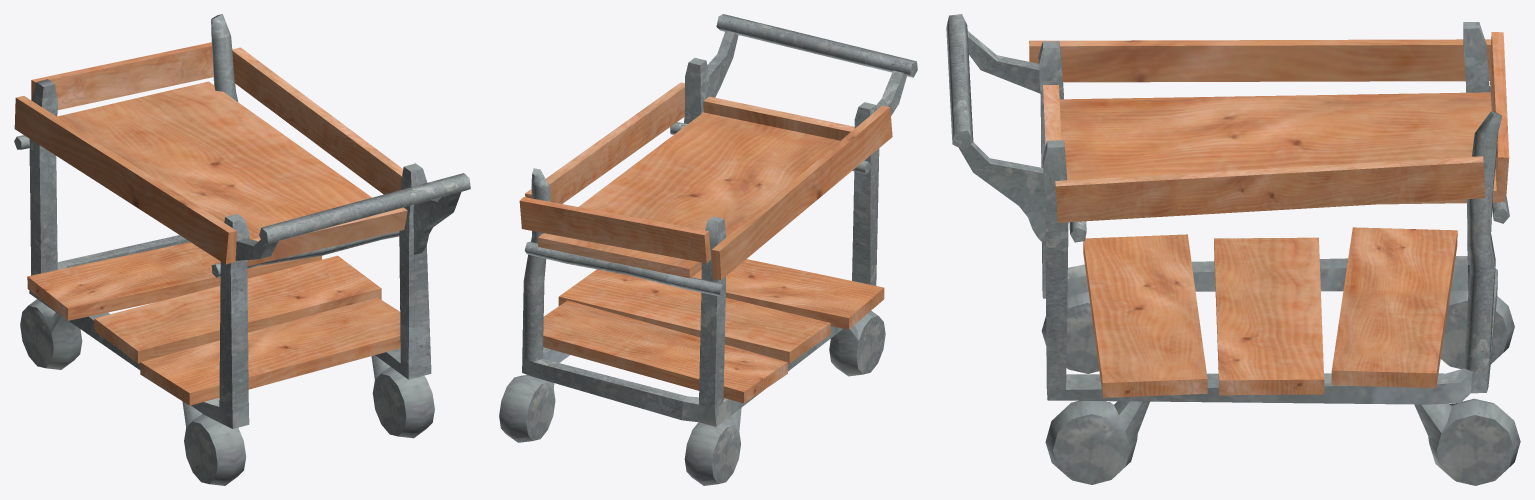
The model's file is M_Home_Garden_Trolley.fbx.
3 renders of one model, left to right at view 1: azimuth 30°, elevation 25°; view 2: azimuth 150°, elevation 25°; view 3: azimuth 270°, elevation 25°, orthographic. The views are drawn at different scales.
Parts seen in each view (by area): view 1: M_Home_Garden_Trolley; view 2: M_Home_Garden_Trolley; view 3: M_Home_Garden_Trolley.
Part boxes in pixels (bbox=[...]): M_Home_Garden_Trolley: bbox=[14, 14, 470, 485]; M_Home_Garden_Trolley: bbox=[499, 14, 917, 485]; M_Home_Garden_Trolley: bbox=[946, 14, 1520, 485].
Size of the model in its own units: 73.19 by 81.87 by 118.
